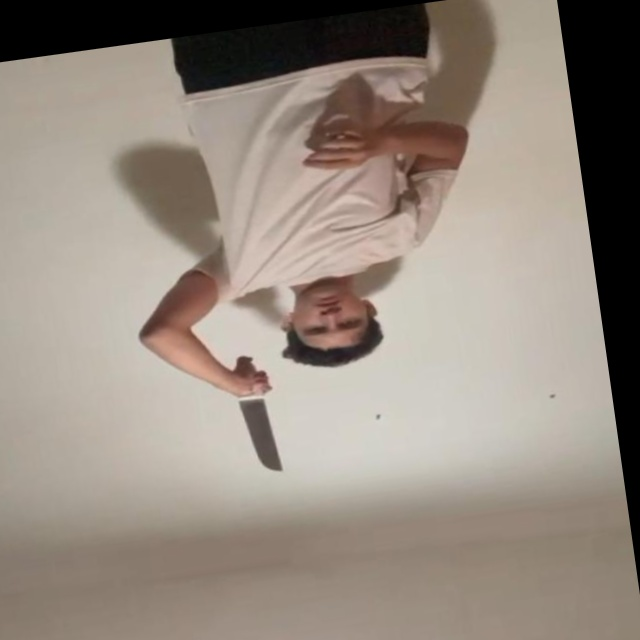Sharp-Object: (239, 400, 287, 478)
